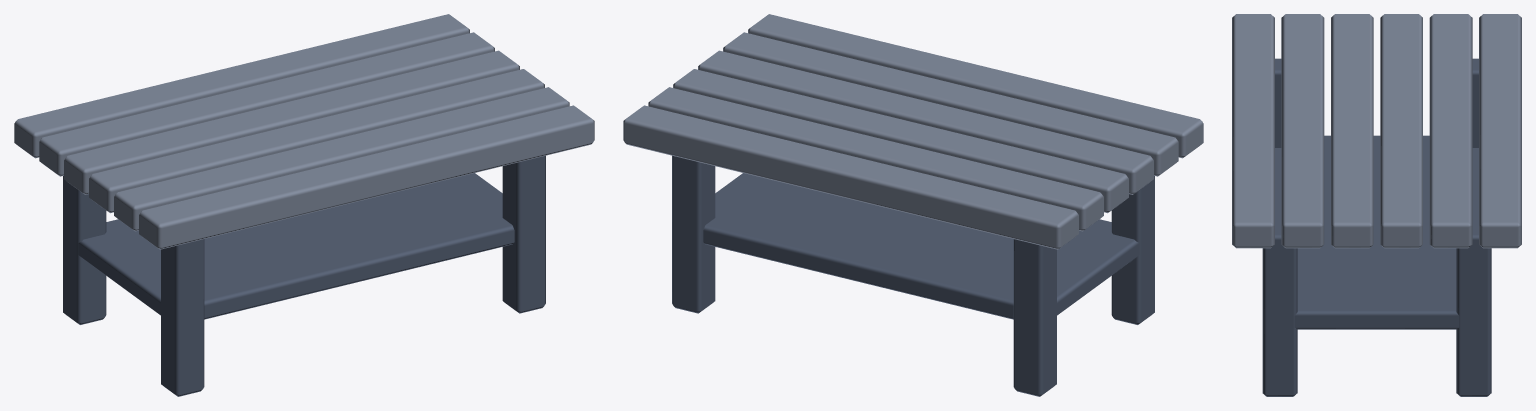
The model's file is 户外茶几-lite.glb.
The picture shows the model from 3 angles, left to right: view 1: azimuth 30°, elevation 25°; view 2: azimuth 150°, elevation 25°; view 3: azimuth 270°, elevation 25°; orthographic projection.
Visible parts, largest first — view 1: garden-outdoor-coffee-table; view 2: garden-outdoor-coffee-table; view 3: garden-outdoor-coffee-table.
Boxes of the visible parts, x1=… form: garden-outdoor-coffee-table: x1=14, y1=14, x2=594, y2=396; garden-outdoor-coffee-table: x1=623, y1=14, x2=1203, y2=396; garden-outdoor-coffee-table: x1=1232, y1=14, x2=1521, y2=396.
Size of the model in its own units: 0.95 by 0.4 by 0.55.
